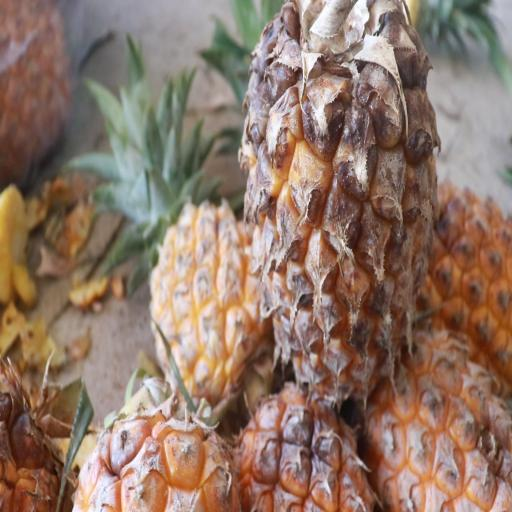Pineapple - v8 v1: (230, 0, 446, 404), (146, 74, 275, 414), (364, 334, 512, 512), (64, 372, 242, 512), (228, 363, 374, 512)
